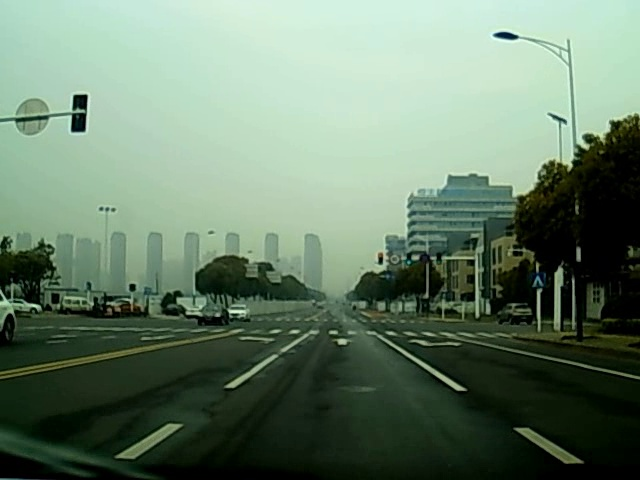Traffic_Light_go: (405, 253, 412, 267)
Traffic_Light_stop: (376, 253, 383, 268)
